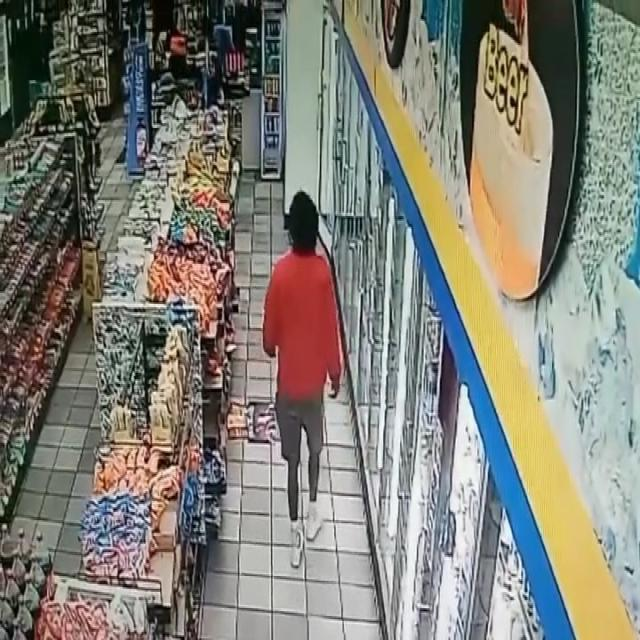Normal: (260, 188, 344, 584)
